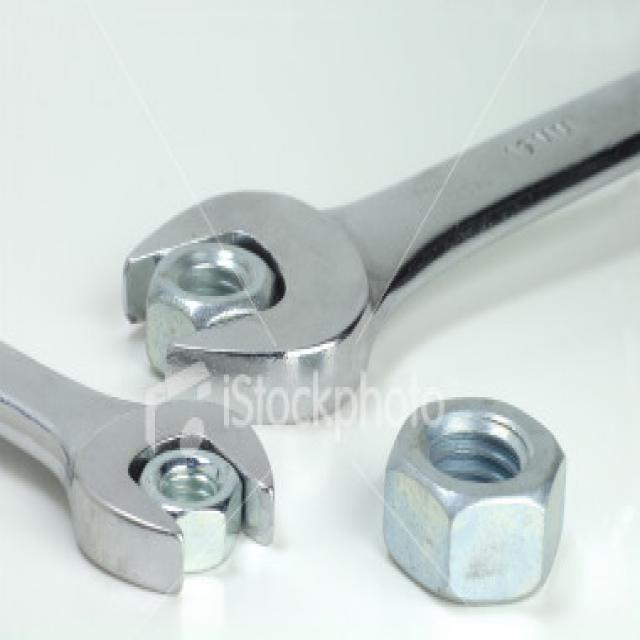wrench: (0, 351, 278, 600)
